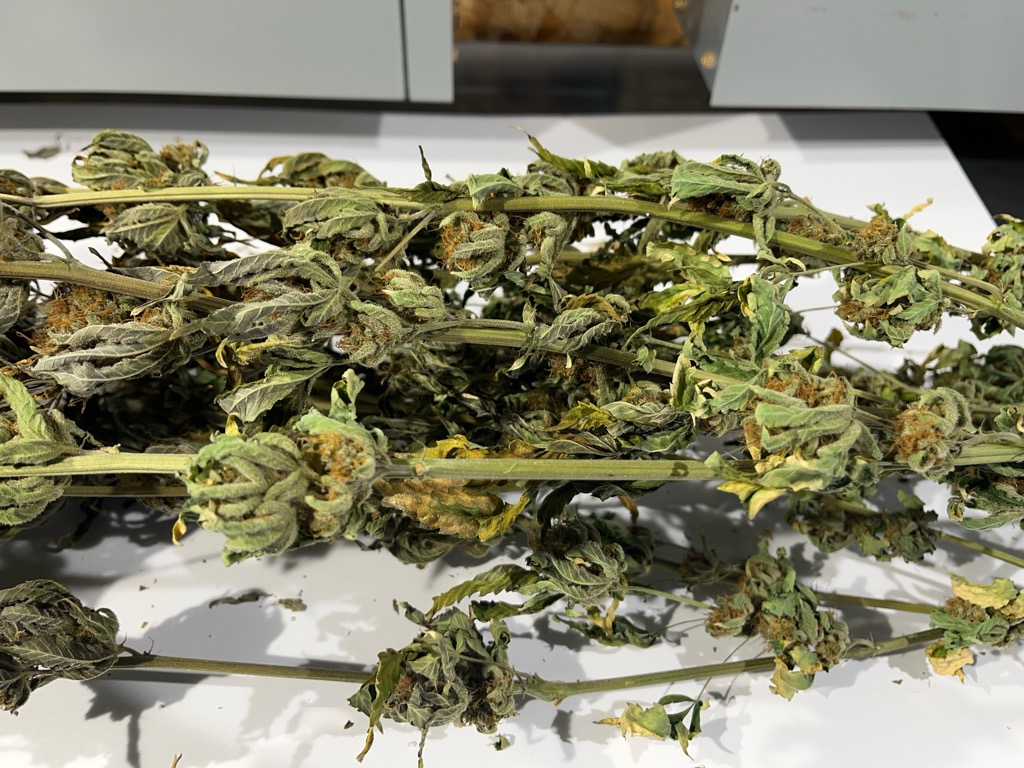Stem: (390, 439, 708, 489), (26, 179, 431, 216), (486, 186, 707, 222), (54, 444, 193, 477), (702, 217, 847, 243), (920, 284, 1023, 317), (444, 321, 529, 352), (945, 438, 1022, 471)
